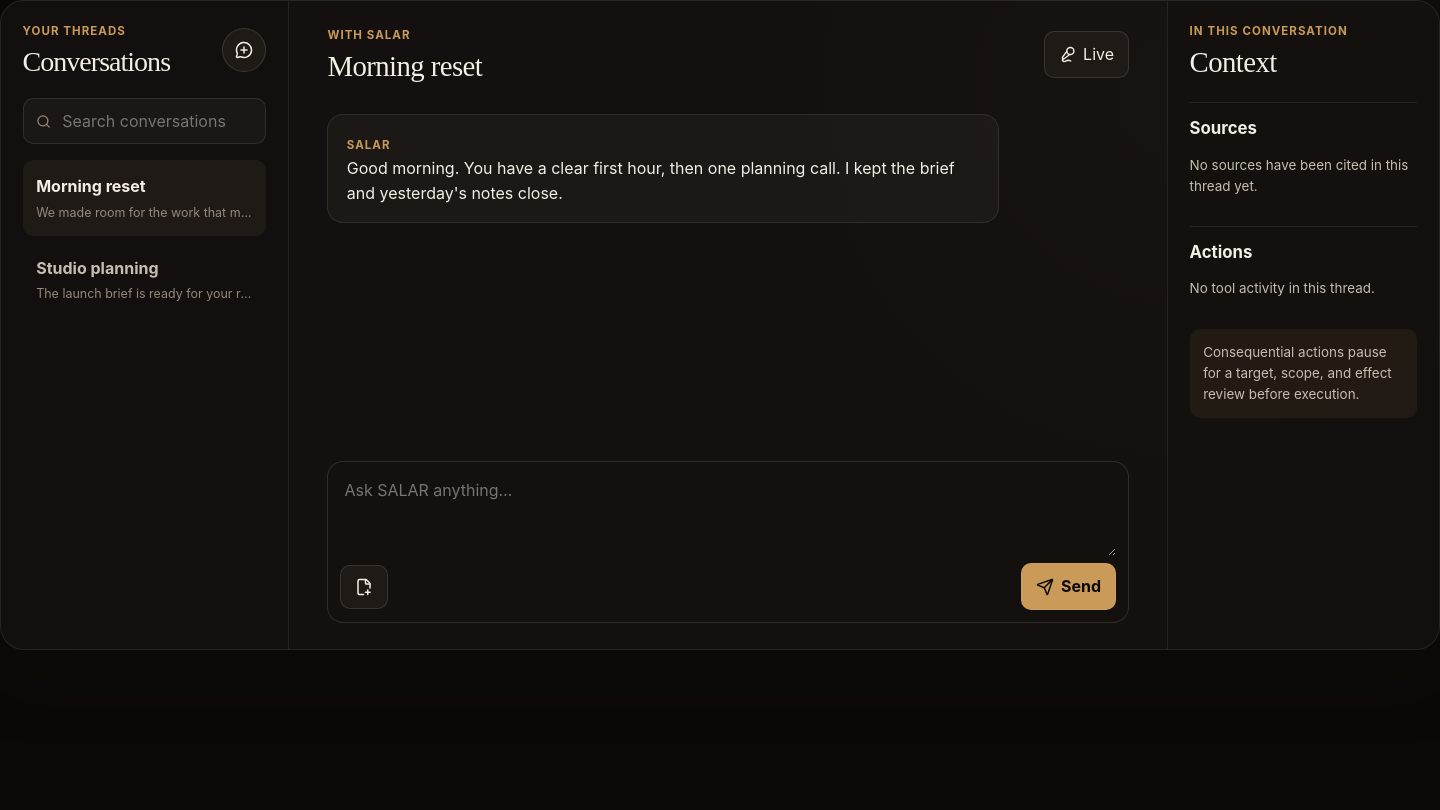
Test: ConversationWorkspace › moves tool activity from working to complete
Type "Find my brief" into the text box named "Message SALAR".
click(728, 515); type("Find my brief")  # box [340,474,1116,556]
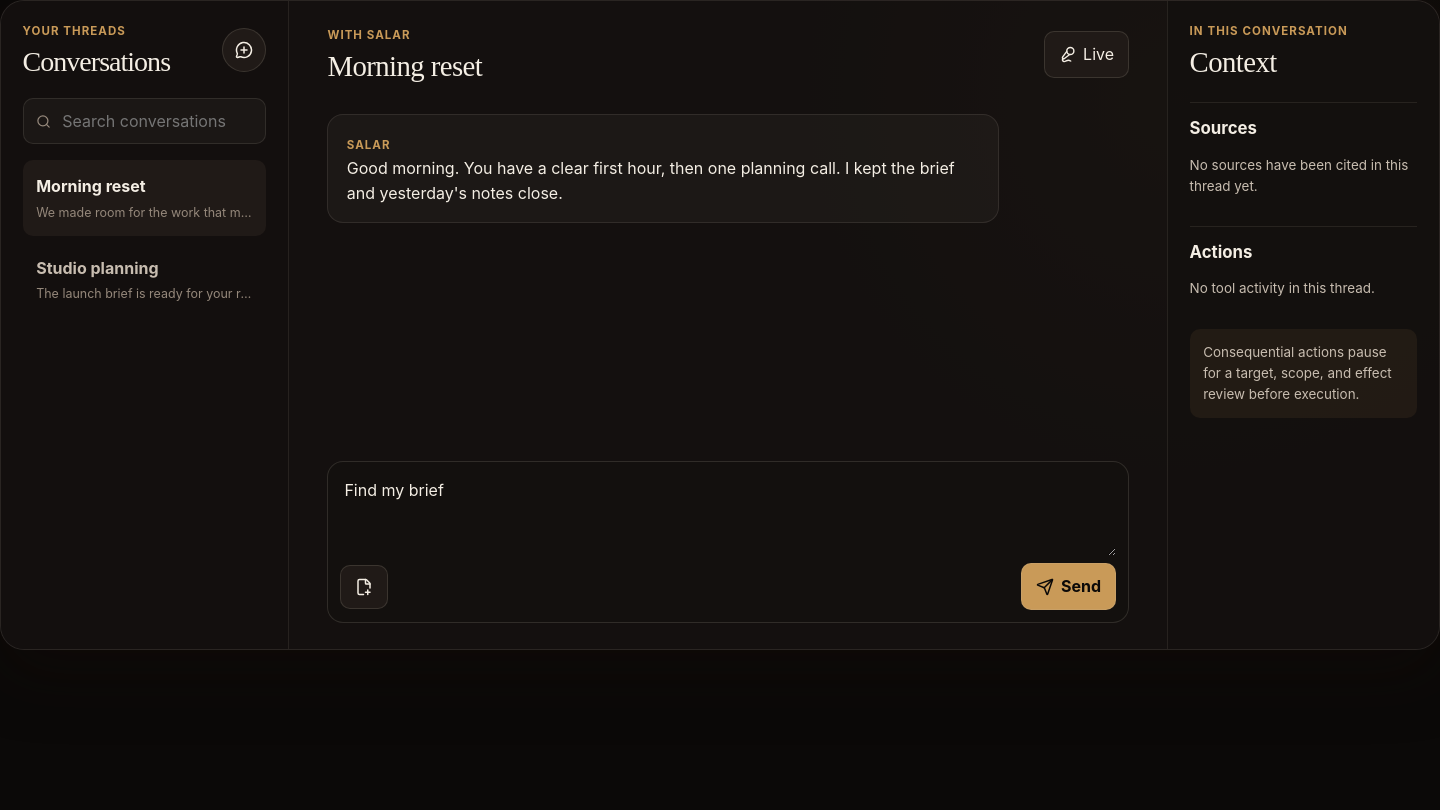
Click the button with aria-label "Send message".
click(1068, 587)  # box [1021,563,1116,610]
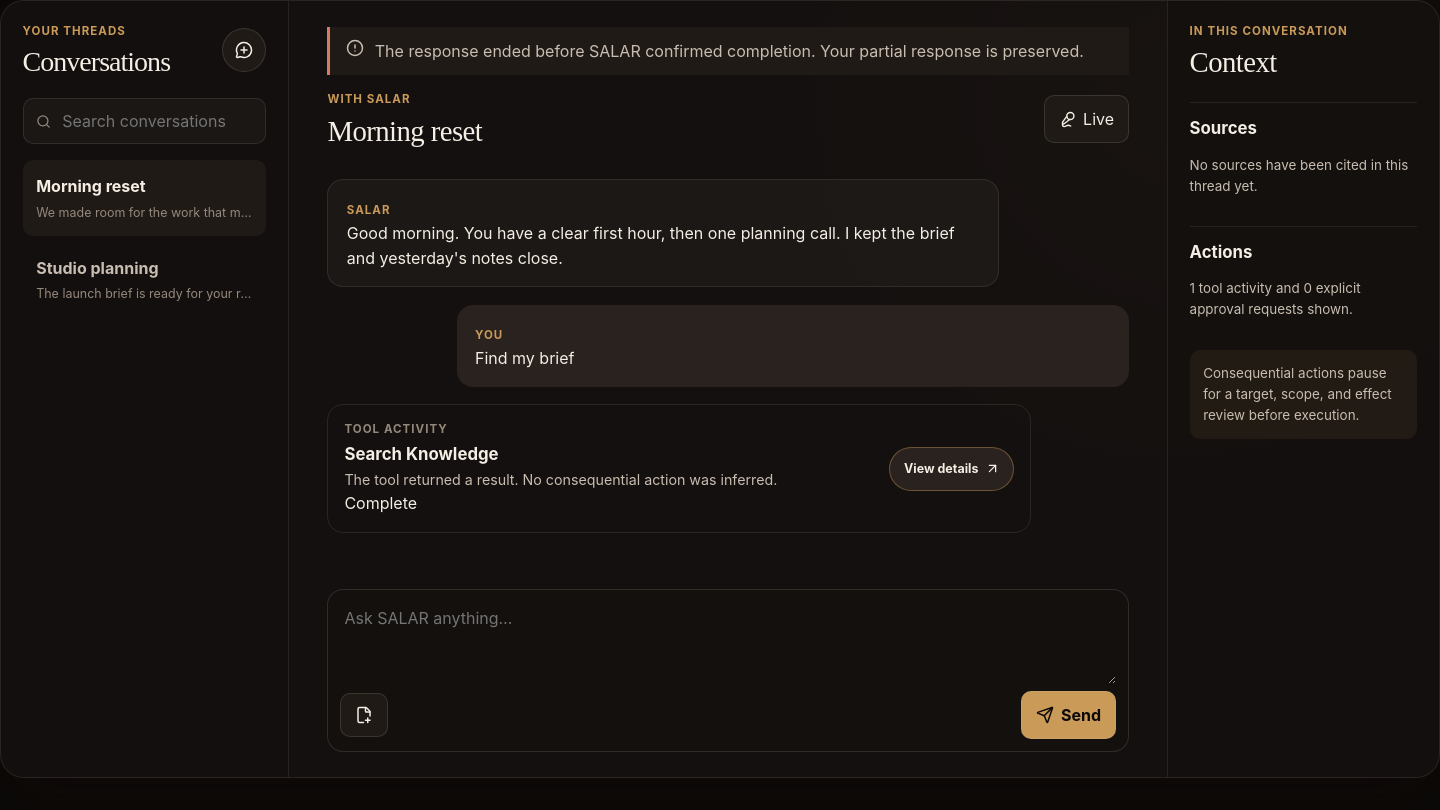
Expected: the button with aria-label "View Search Knowledge details" is shown, [889,447,1014,491]
Expected: the text "Complete" is shown, [344,493,417,513]
